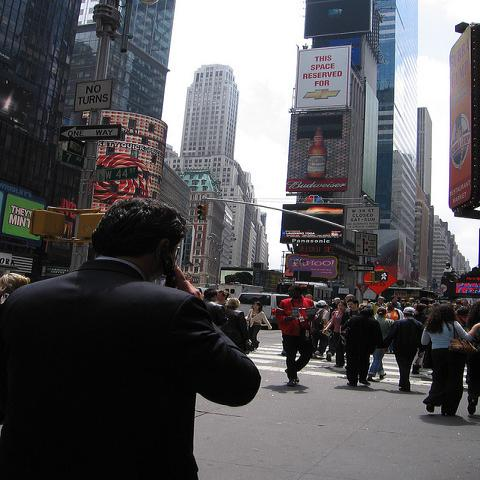bus: (279, 281, 332, 301)
car: (237, 292, 290, 324)
